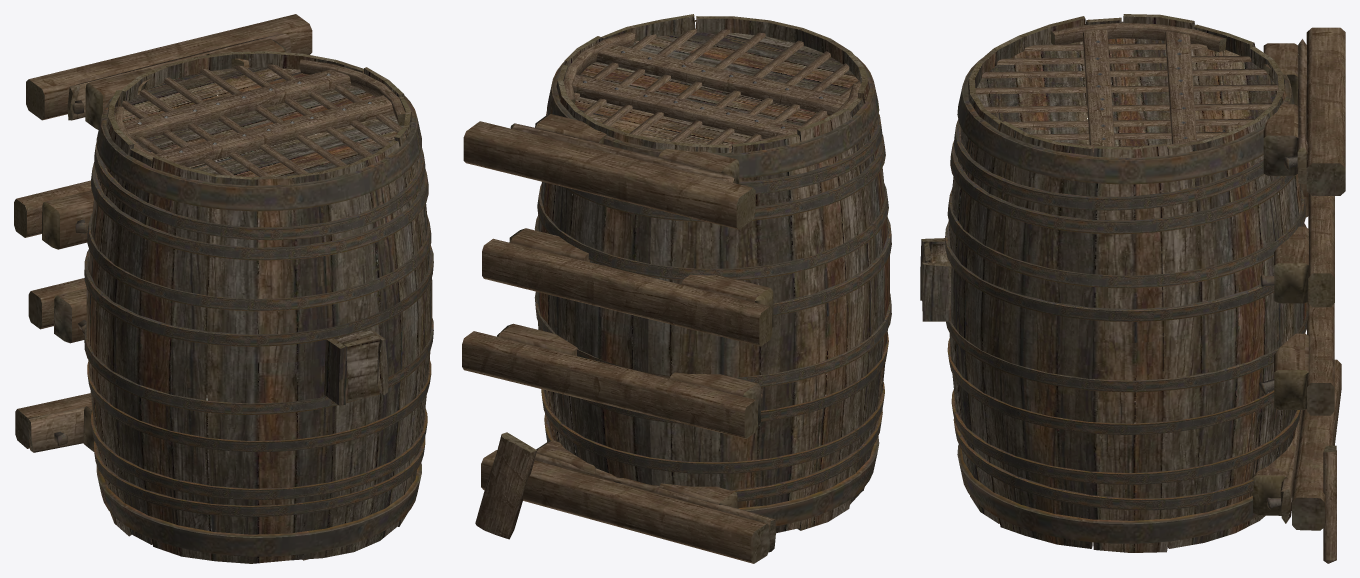
Rendered from GEN_PRO_BarrelLarge_01A_LOD0-transformed.glb.
The picture shows the model from 3 angles, left to right: view 1: azimuth 30°, elevation 25°; view 2: azimuth 150°, elevation 25°; view 3: azimuth 270°, elevation 25°; orthographic projection. The views are drawn at different scales.
Parts seen in each view (by area): view 1: GEN_PRO_BarrelLarge_01A_LOD0; view 2: GEN_PRO_BarrelLarge_01A_LOD0; view 3: GEN_PRO_BarrelLarge_01A_LOD0.
Part boxes in pixels (<box>): GEN_PRO_BarrelLarge_01A_LOD0: <box>14,14,433,563</box>; GEN_PRO_BarrelLarge_01A_LOD0: <box>462,14,891,563</box>; GEN_PRO_BarrelLarge_01A_LOD0: <box>920,14,1345,563</box>.
Size of the model in its own units: 0.0244 by 0.0313 by 0.0285.
4 materials, 4 textured.
